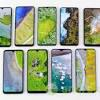Smartphone: (2, 50, 22, 94), (27, 50, 47, 93), (13, 7, 35, 45), (37, 6, 58, 45), (52, 49, 70, 92), (0, 8, 12, 54)
